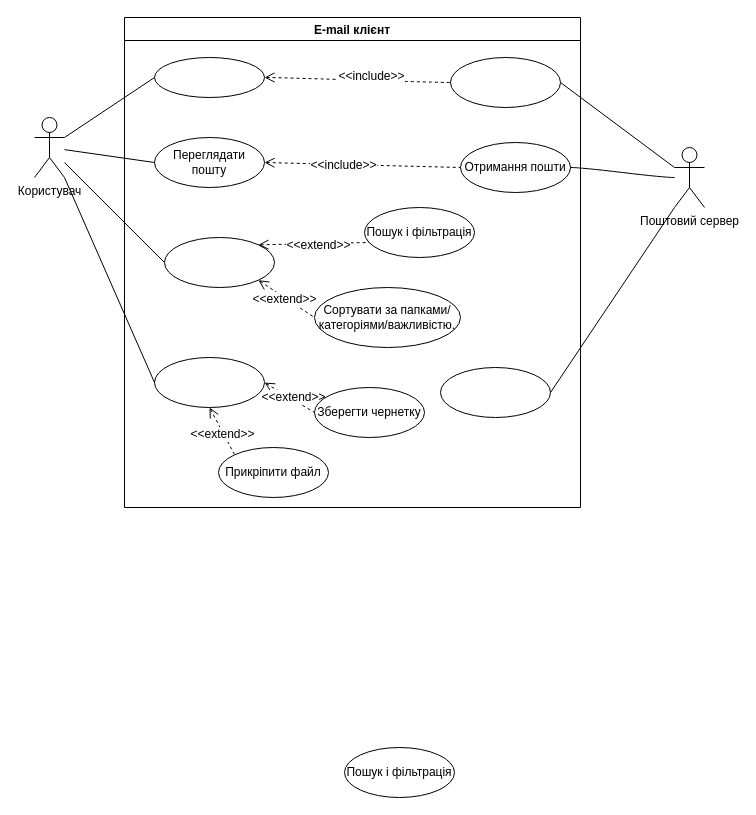
This 756x815 diagram has some shape labels left out. Each missing label, with the centre of its shape:
"Авторизація" goes at (505,82).
"Відправка пошти" goes at (495,392).
"Керувати повідомленням" goes at (219,262).
"Налаштувати акаунт" goes at (209,77).
"Написати повідомлення" goes at (209,382).
